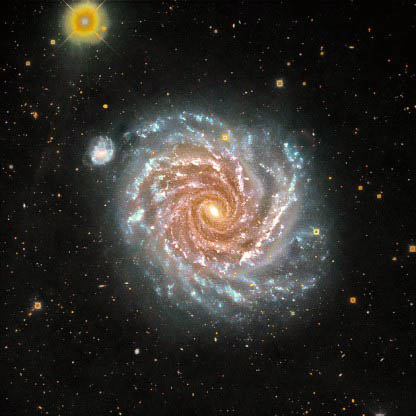NGC 1232: (80, 91, 339, 338)
